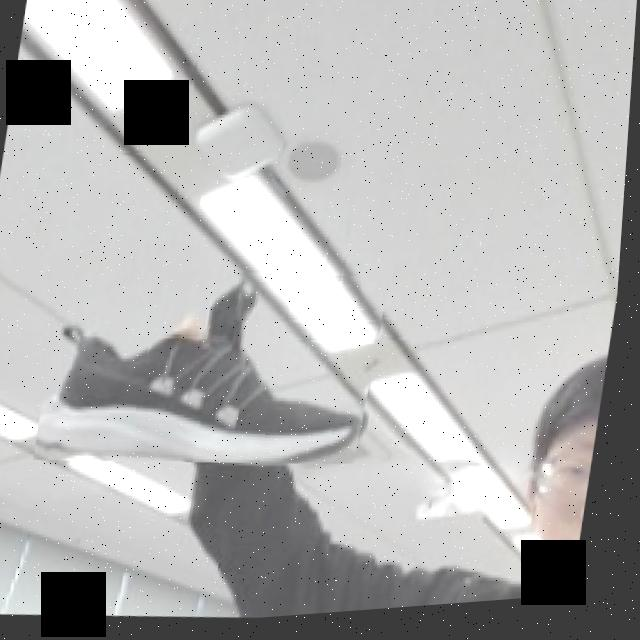shoe: (38, 250, 396, 490)
